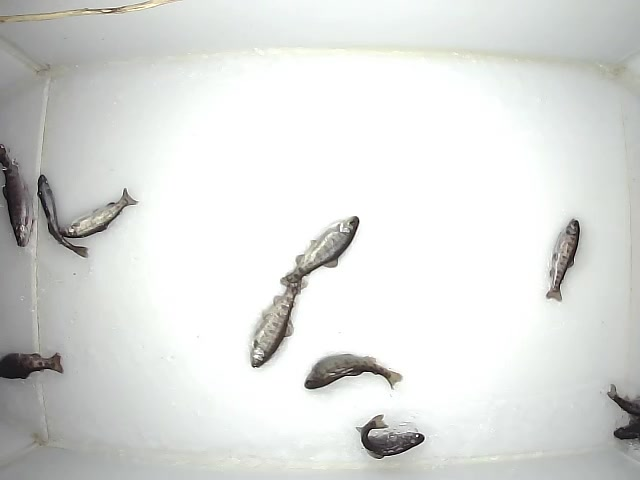fish: (279, 213, 360, 293), (248, 276, 310, 368), (34, 172, 89, 259), (58, 186, 139, 238), (302, 353, 404, 391), (354, 412, 425, 460), (1, 142, 32, 249), (543, 217, 580, 302), (1, 350, 67, 380)
